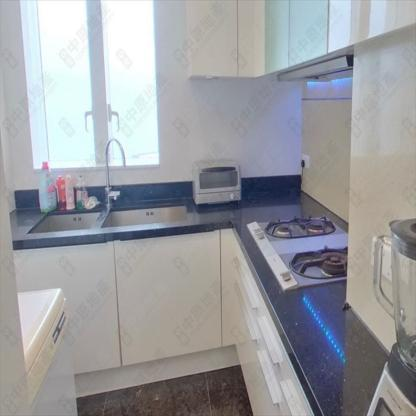Cupboard: (14, 227, 312, 415), (184, 0, 415, 80)
Exhaust Hood: (276, 54, 353, 81)
Faucet: (102, 135, 135, 202)
Sink: (99, 204, 187, 228), (27, 211, 99, 234)
Stove: (248, 216, 348, 291)
